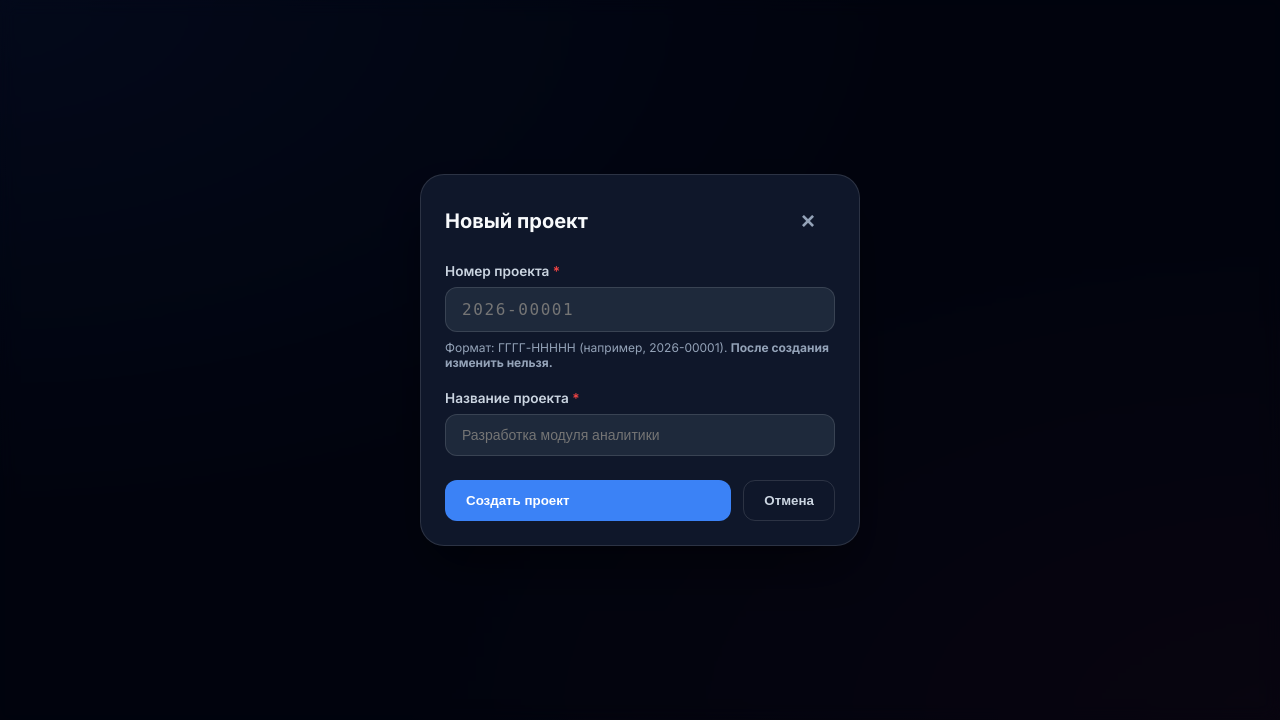
Scenario: CreateProjectModal › валидирует обязательность названия проекта
Click the button "Создать проект" at (518, 500), box [445,480,731,521]
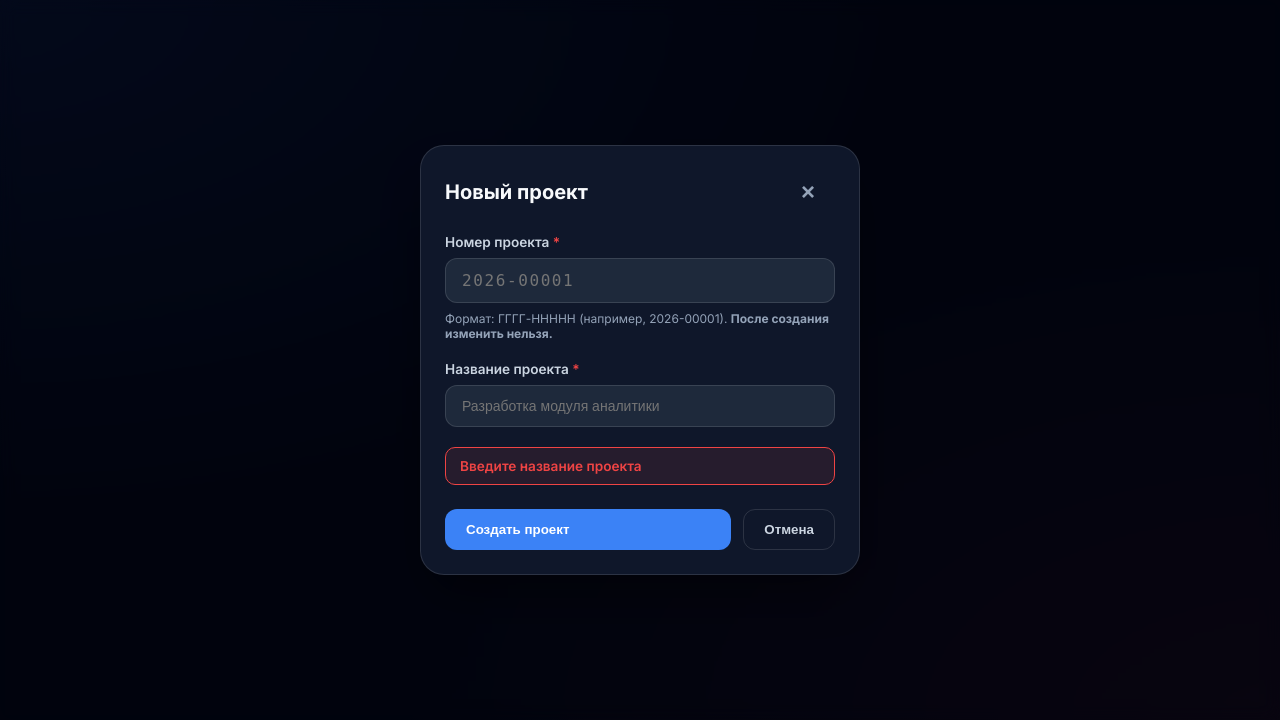
Expected: the text "Введите название проекта" is shown, [445,447,835,485]
